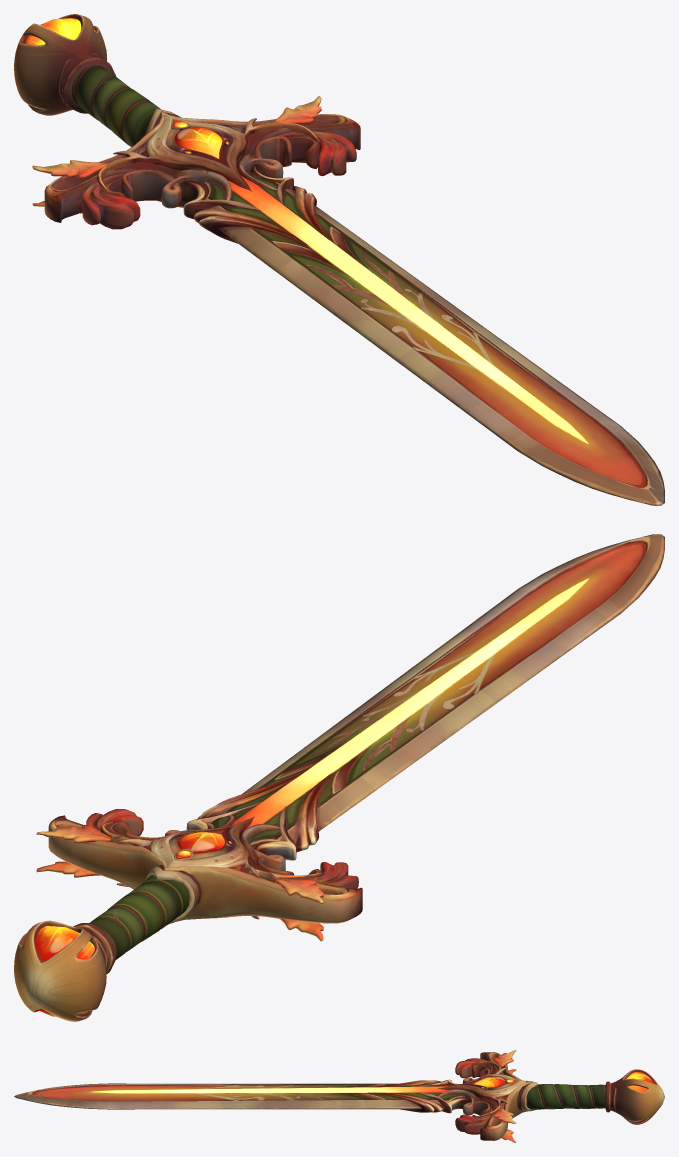
Rendered from autumn_sword.glb.
The picture shows the model from 3 angles, top to bottom: view 1: azimuth 30°, elevation 25°; view 2: azimuth 150°, elevation 25°; view 3: azimuth 270°, elevation 25°; orthographic projection. The views are drawn at different scales.
Visible parts, largest first — view 1: Object_3; view 2: Object_3; view 3: Object_3.
Boxes of the visible parts, bbox=[...] form: Object_3: bbox=[14, 14, 664, 505]; Object_3: bbox=[14, 534, 664, 1021]; Object_3: bbox=[14, 1050, 664, 1142].
Size of the model in its own units: 3.2 by 0.8827 by 11.34.
Materials: 1 (1 with a texture image).
